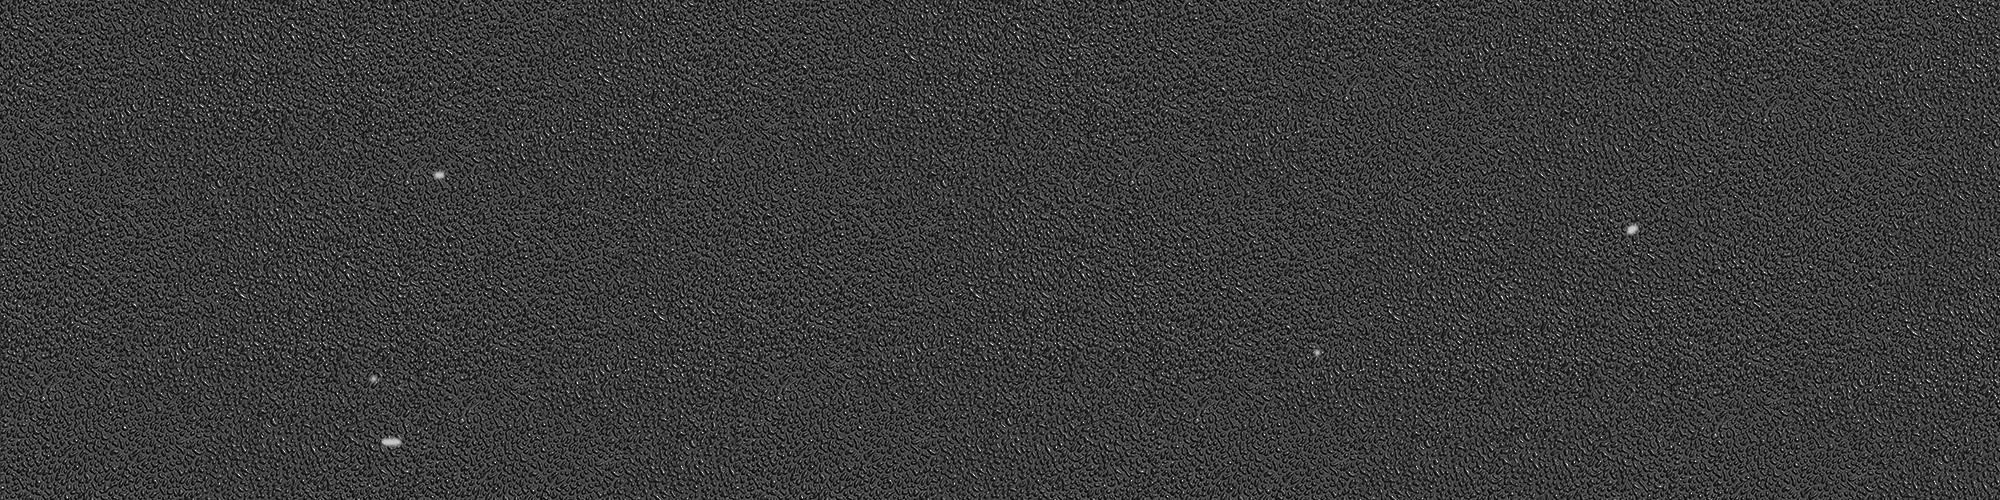Particles: (1619, 219, 1643, 241), (379, 434, 407, 450), (429, 166, 448, 186), (1309, 347, 1323, 360), (367, 371, 379, 385)
